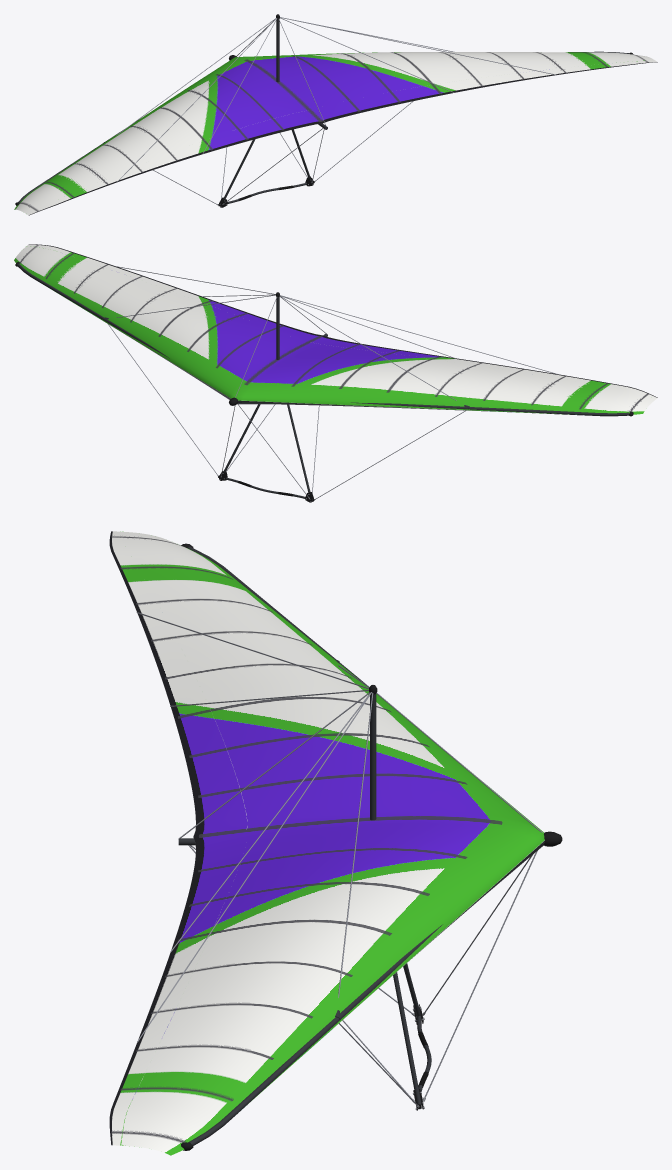
File: glider_icaro_alto.glb
3 renders of one model, top to bottom at view 1: azimuth 30°, elevation 25°; view 2: azimuth 150°, elevation 25°; view 3: azimuth 270°, elevation 25°, orthographic. The views are drawn at different scales.
Parts seen in each view (by area): view 1: Sail, Frame, ControlFrame; view 2: Sail, Frame, ControlFrame; view 3: Sail, Frame, ControlFrame.
Boxes of the visible parts, left/top/right/bottom form: Sail: left=14, top=52, right=657, bottom=215; Frame: left=15, top=14, right=633, bottom=205; ControlFrame: left=153, top=101, right=413, bottom=207; Sail: left=14, top=244, right=657, bottom=415; Frame: left=15, top=262, right=633, bottom=416; ControlFrame: left=108, top=324, right=465, bottom=502; Sail: left=109, top=531, right=544, bottom=1155; Frame: left=136, top=543, right=562, bottom=1150; ControlFrame: left=188, top=845, right=537, bottom=1110.
Bounding box in the file's own units: 9.98 × 2.89 × 3.11.
8 materials, 1 textured.
